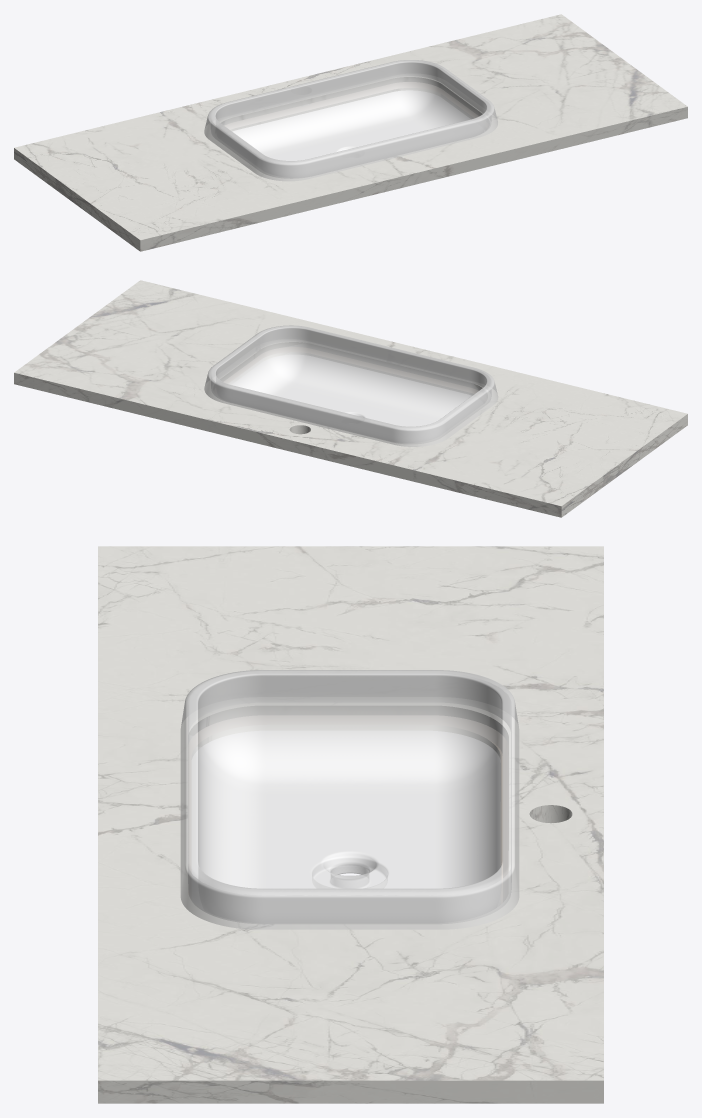
3 renders of one model, top to bottom at view 1: azimuth 30°, elevation 25°; view 2: azimuth 150°, elevation 25°; view 3: azimuth 270°, elevation 25°, orthographic. The views are drawn at different scales.
Visible parts, largest first — view 1: FA 146 cer, FA 146(полувстраиваемая); view 2: FA 146 cer, FA 146(полувстраиваемая); view 3: FA 146 cer, FA 146(полувстраиваемая).
Part boxes in pixels (box(x1,y1,x2,y2)): FA 146 cer: box(14, 14, 687, 251); FA 146(полувстраиваемая): box(204, 60, 497, 181); FA 146 cer: box(14, 280, 687, 517); FA 146(полувстраиваемая): box(204, 325, 498, 446); FA 146 cer: box(98, 546, 603, 1103); FA 146(полувстраиваемая): box(180, 670, 519, 929).
Bounding box in the file's own units: 1.5 × 0.132 × 0.6.
3 materials, 1 textured.
